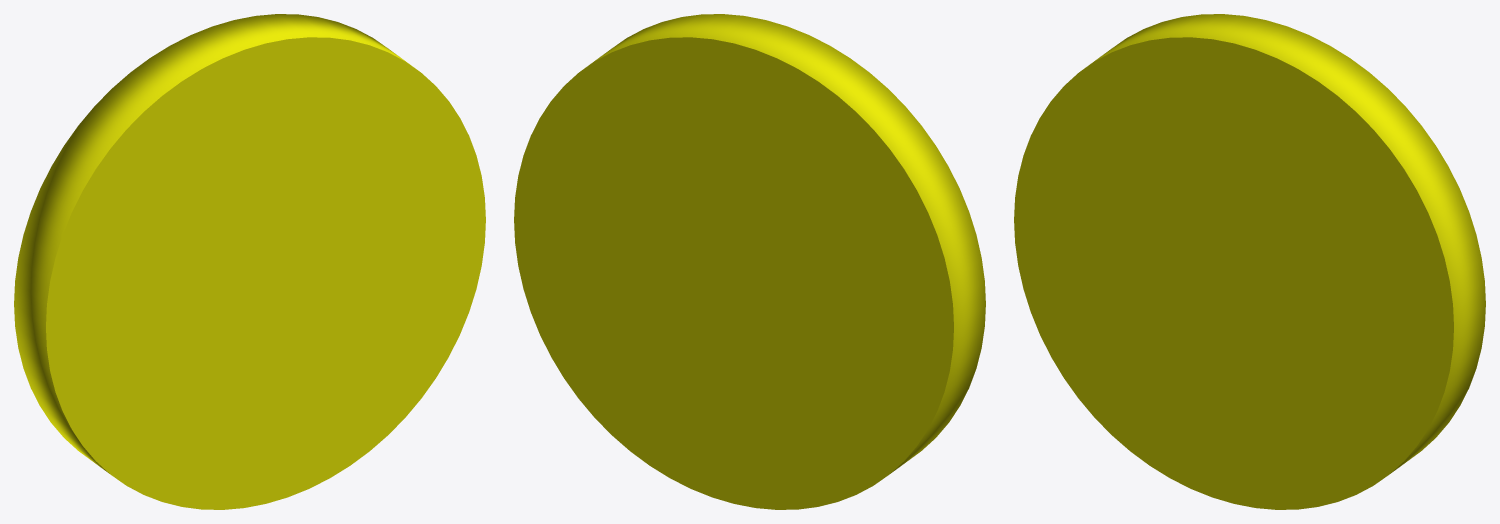
Rendered from Coin.fbx.
The picture shows the model from 3 angles, left to right: view 1: azimuth 30°, elevation 25°; view 2: azimuth 150°, elevation 25°; view 3: azimuth 330°, elevation 25°; orthographic projection.
Visible parts, largest first — view 1: Mario Coin.001; view 2: Mario Coin.001; view 3: Mario Coin.001.
Boxes of the visible parts, <box> form: Mario Coin.001: <box>14,14,485,509</box>; Mario Coin.001: <box>514,14,985,509</box>; Mario Coin.001: <box>1014,14,1485,509</box>.
Bounding box in the file's own units: 480 × 480 × 60.21.
